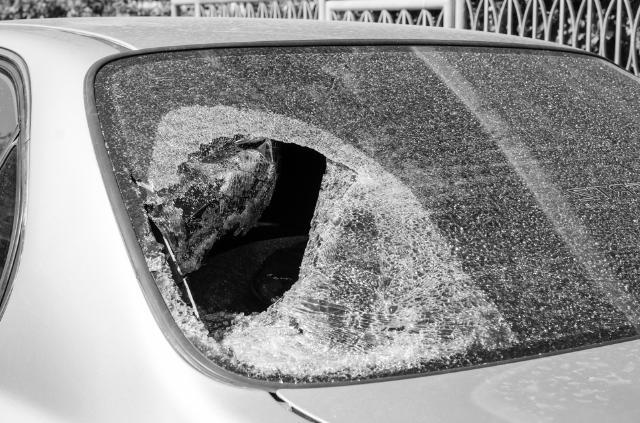Windshield: (86, 42, 640, 377)
